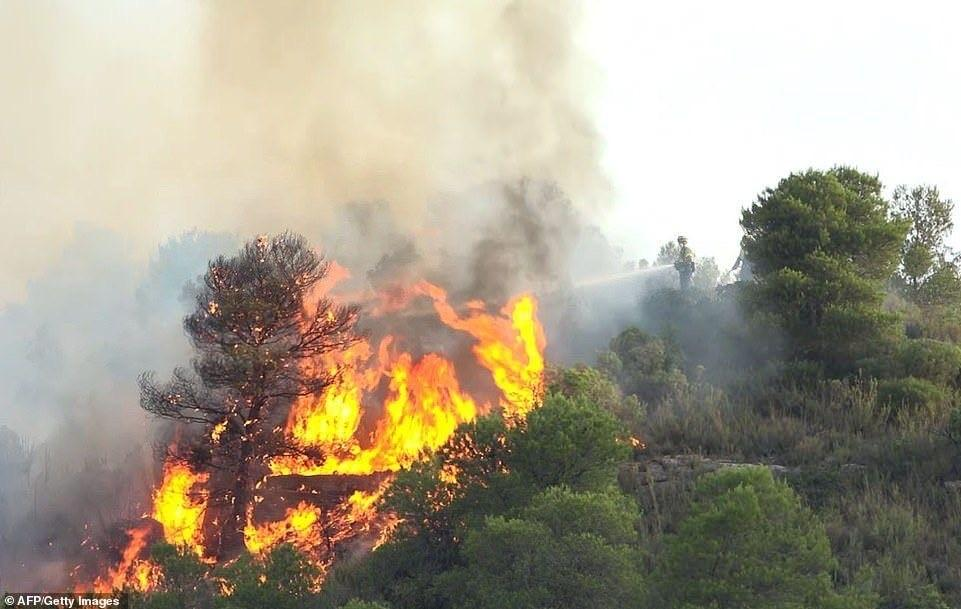fire: (250, 312, 548, 507), (257, 493, 414, 598), (124, 465, 247, 589), (189, 402, 259, 453), (621, 426, 662, 456)
smoke: (224, 0, 641, 282)
